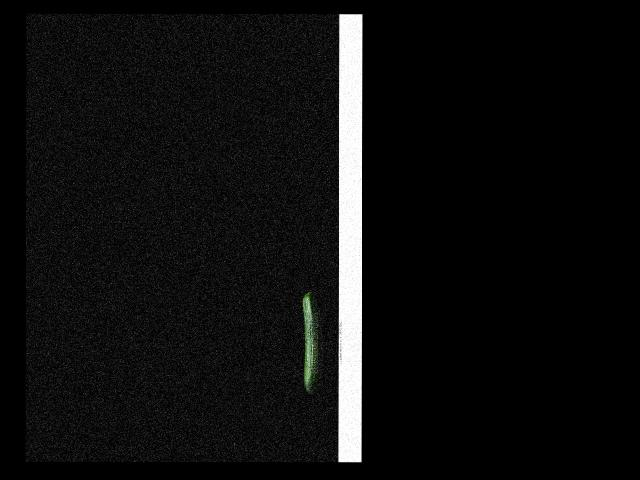cucumber: (303, 291, 318, 393)
